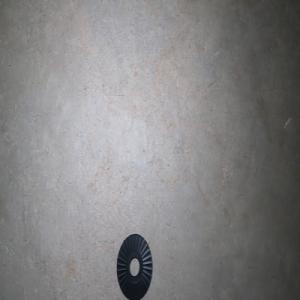Washer: (116, 233, 152, 300)
